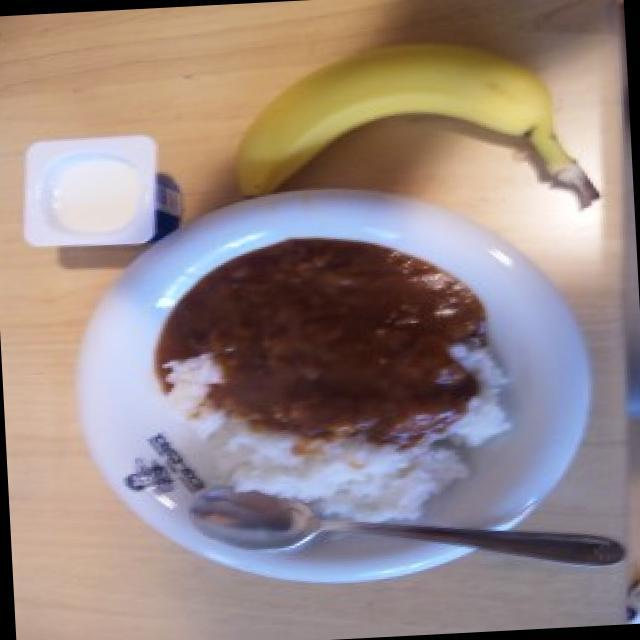Banana: (205, 26, 606, 232)
Beef Curry: (128, 225, 526, 473)
